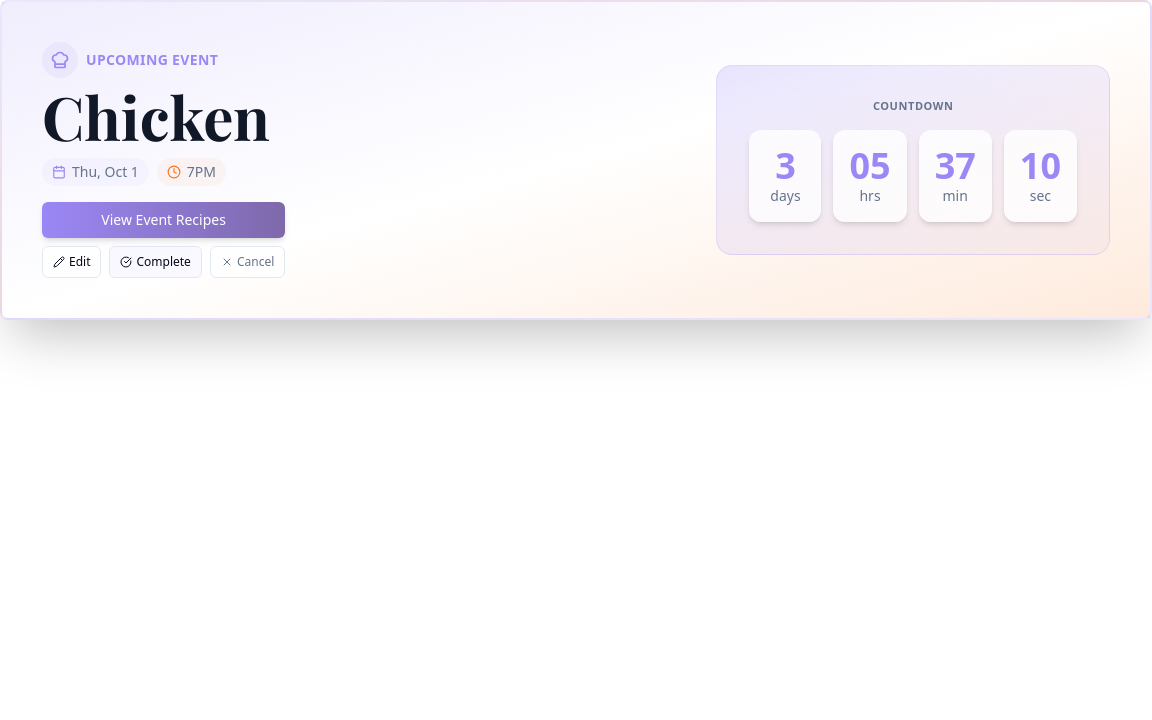
Scenario: CountdownCard › closes complete confirmation when Keep Scheduled is clicked
Click the button "Complete" at (156, 262), box [110,246,202,278]
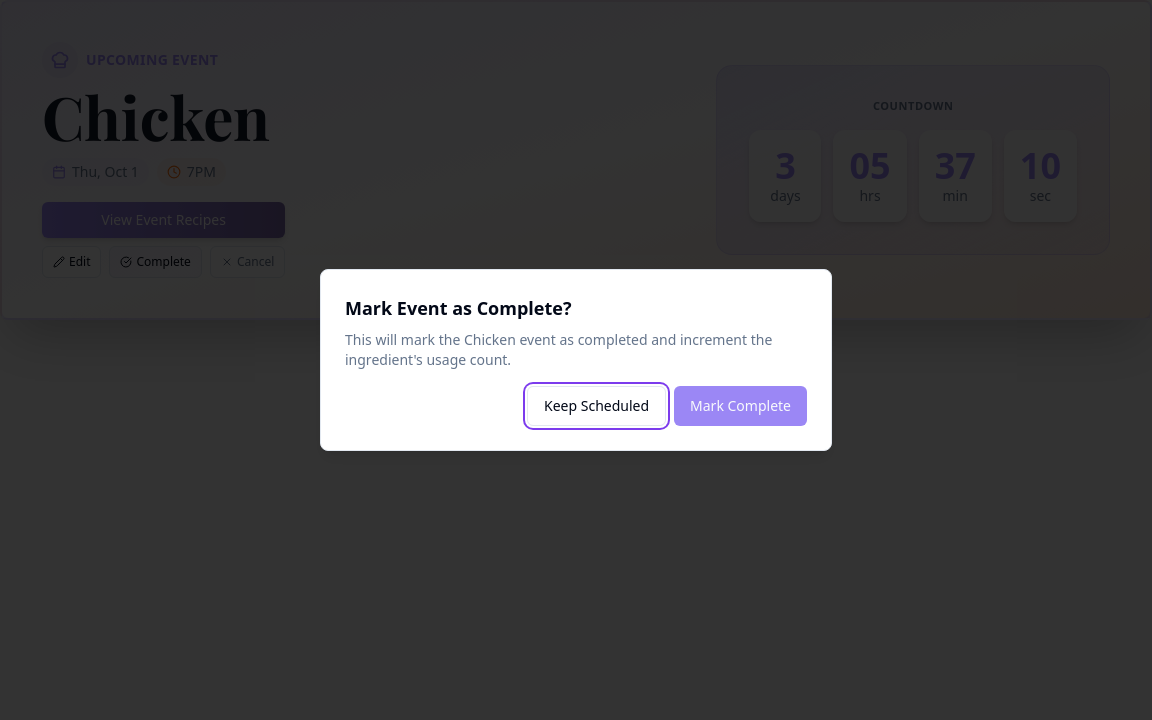
Expected: the heading "Mark Event as Complete?" is shown, [345,296,572,320]
Click the button "Keep Scheduled" at (596, 406), box [527,386,666,426]
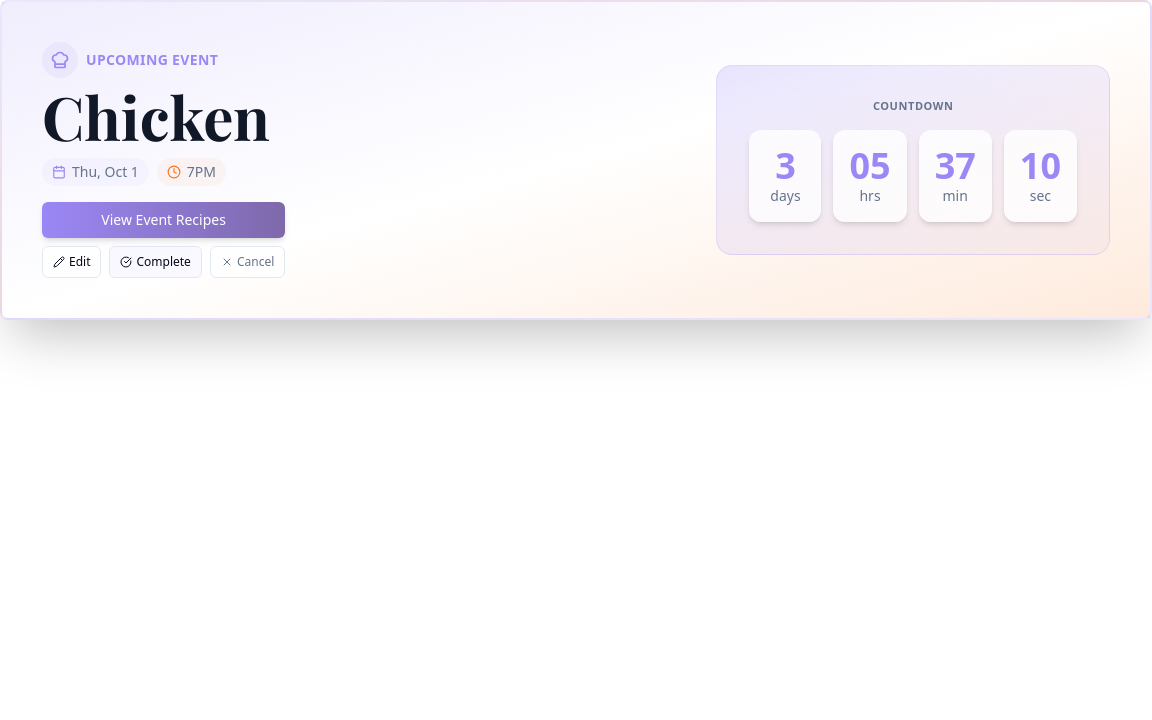
Expected: the heading "Mark Event as Complete?" is gone
